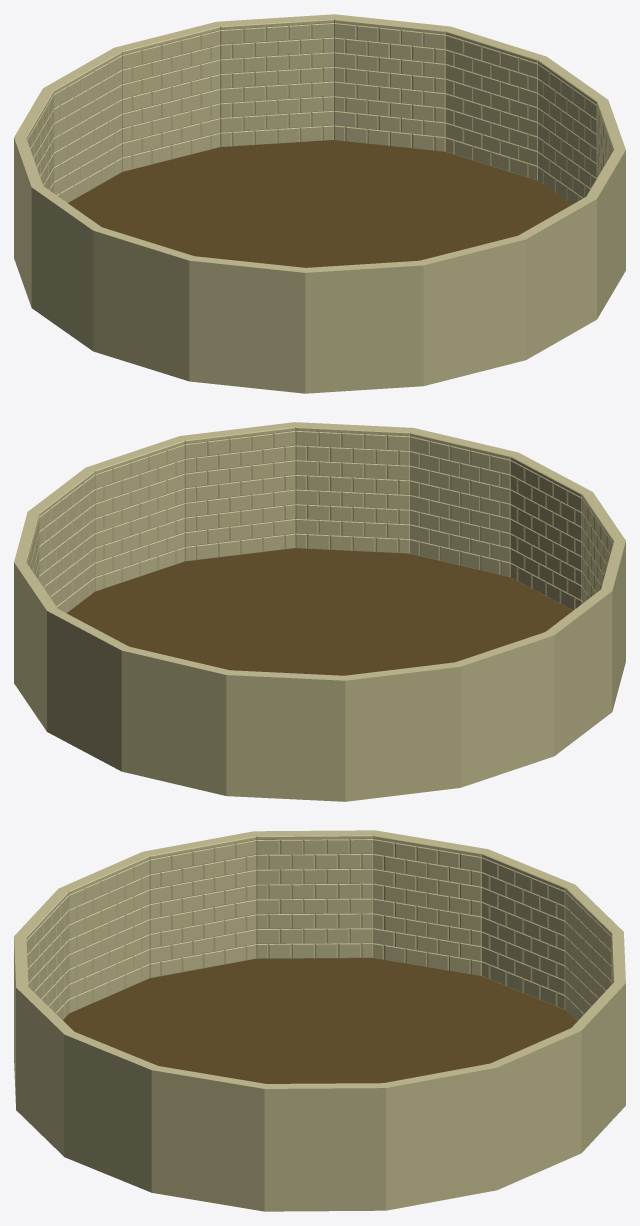
The model's file is Map_Test_1.glb.
The picture shows the model from 3 angles, top to bottom: view 1: azimuth 30°, elevation 25°; view 2: azimuth 150°, elevation 25°; view 3: azimuth 270°, elevation 25°; orthographic projection.
Parts seen in each view (by area): view 1: Wall 3.002, Floor.001; view 2: Wall 3.002, Floor.001; view 3: Wall 3.002, Floor.001.
Part boxes in pixels (x1,y1,x2,y2): Wall 3.002: [14, 14, 625, 393]; Floor.001: [68, 140, 571, 267]; Wall 3.002: [14, 422, 625, 801]; Floor.001: [67, 548, 572, 675]; Wall 3.002: [14, 830, 625, 1211]; Floor.001: [63, 958, 576, 1083].
Size of the model in its own units: 22.86 by 5.05 by 22.86.
